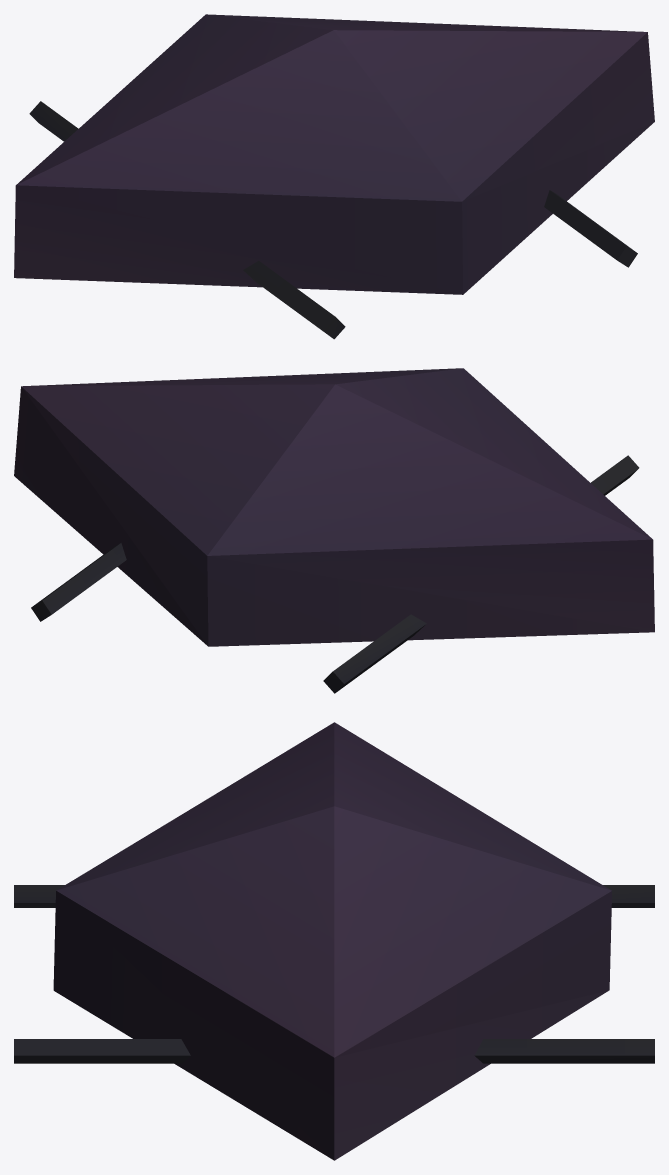
Rendered from beetle.glb.
The picture shows the model from 3 angles, top to bottom: view 1: azimuth 30°, elevation 25°; view 2: azimuth 150°, elevation 25°; view 3: azimuth 270°, elevation 25°; orthographic projection. The views are drawn at different scales.
Visible parts, largest first — view 1: beetle.glb; view 2: beetle.glb; view 3: beetle.glb.
Boxes of the visible parts, x1,y1,x2,y2 form: beetle.glb: [14, 14, 654, 339]; beetle.glb: [14, 368, 654, 693]; beetle.glb: [14, 722, 654, 1160].
Bounding box in the file's own units: 1 × 0.2761 × 0.7982.
